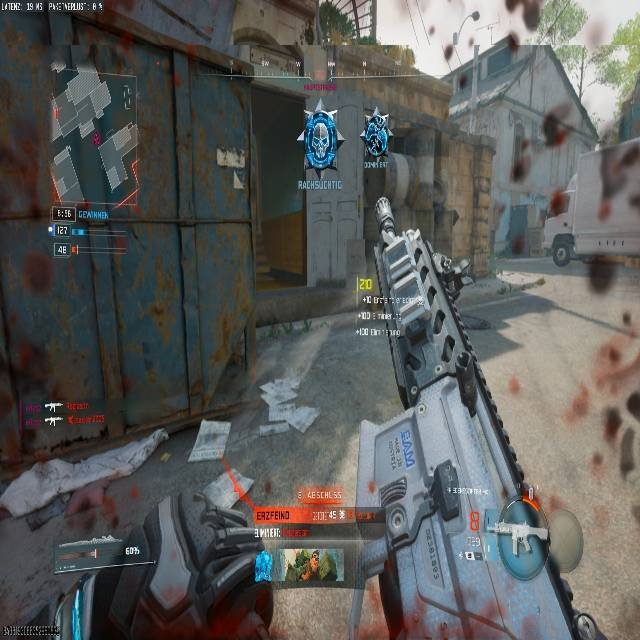player: (362, 111, 390, 162)
